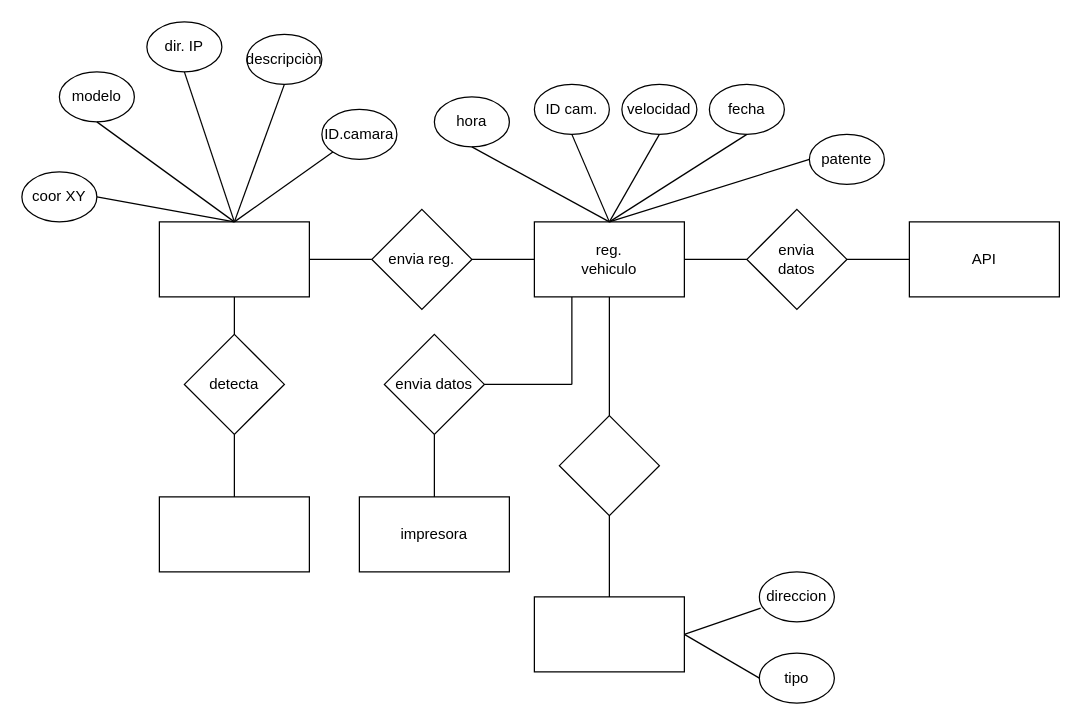
Image size: 1081x725. Some labels were removed from this diagram. The box of each missing label's shape, as (x1, y1, x2, y2) in pixels:
camara: (158, 221, 309, 297)
cuenta: (533, 596, 684, 672)
envia correo: (558, 414, 659, 516)
vehiculo: (158, 496, 309, 572)
